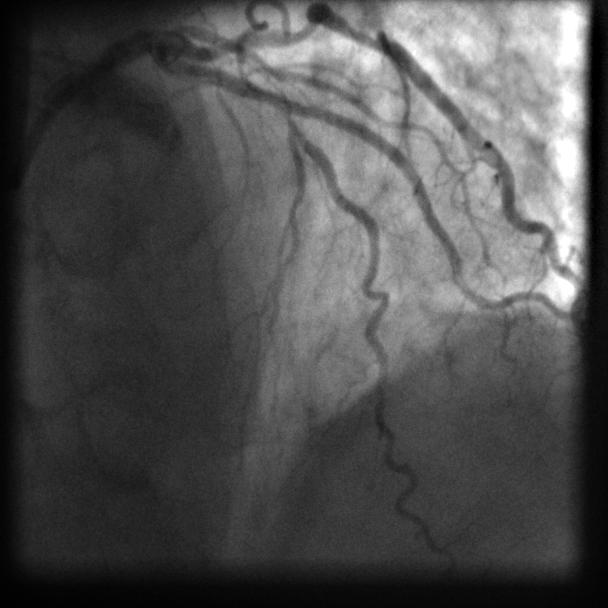Stenosis: (265, 64, 298, 127)
